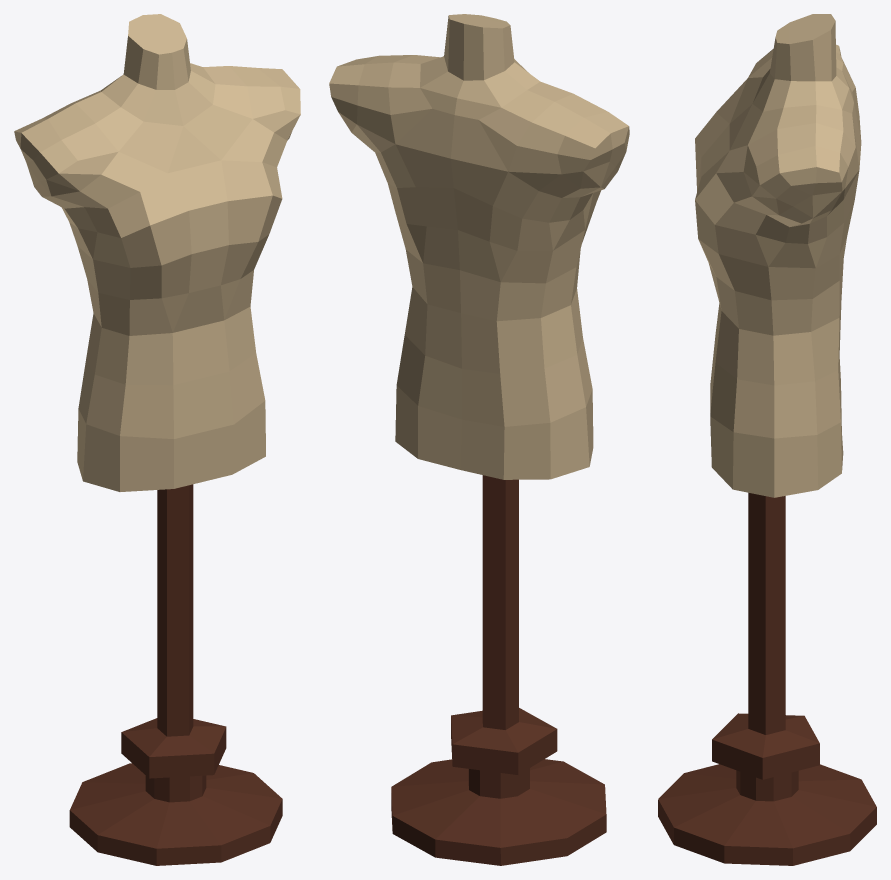
The model's file is Int_Mannequin01.fbx.
3 renders of one model, left to right at view 1: azimuth 30°, elevation 25°; view 2: azimuth 150°, elevation 25°; view 3: azimuth 270°, elevation 25°, orthographic. The views are drawn at different scales.
Parts seen in each view (by area): view 1: Int_Mannequin01; view 2: Int_Mannequin01; view 3: Int_Mannequin01.
Boxes of the visible parts, x1,y1,x2,y2 form: Int_Mannequin01: (14, 14, 300, 865); Int_Mannequin01: (329, 14, 629, 865); Int_Mannequin01: (658, 14, 876, 865).
Size of what is drawn, in the model's own units: 58.68 by 41.13 by 166.
